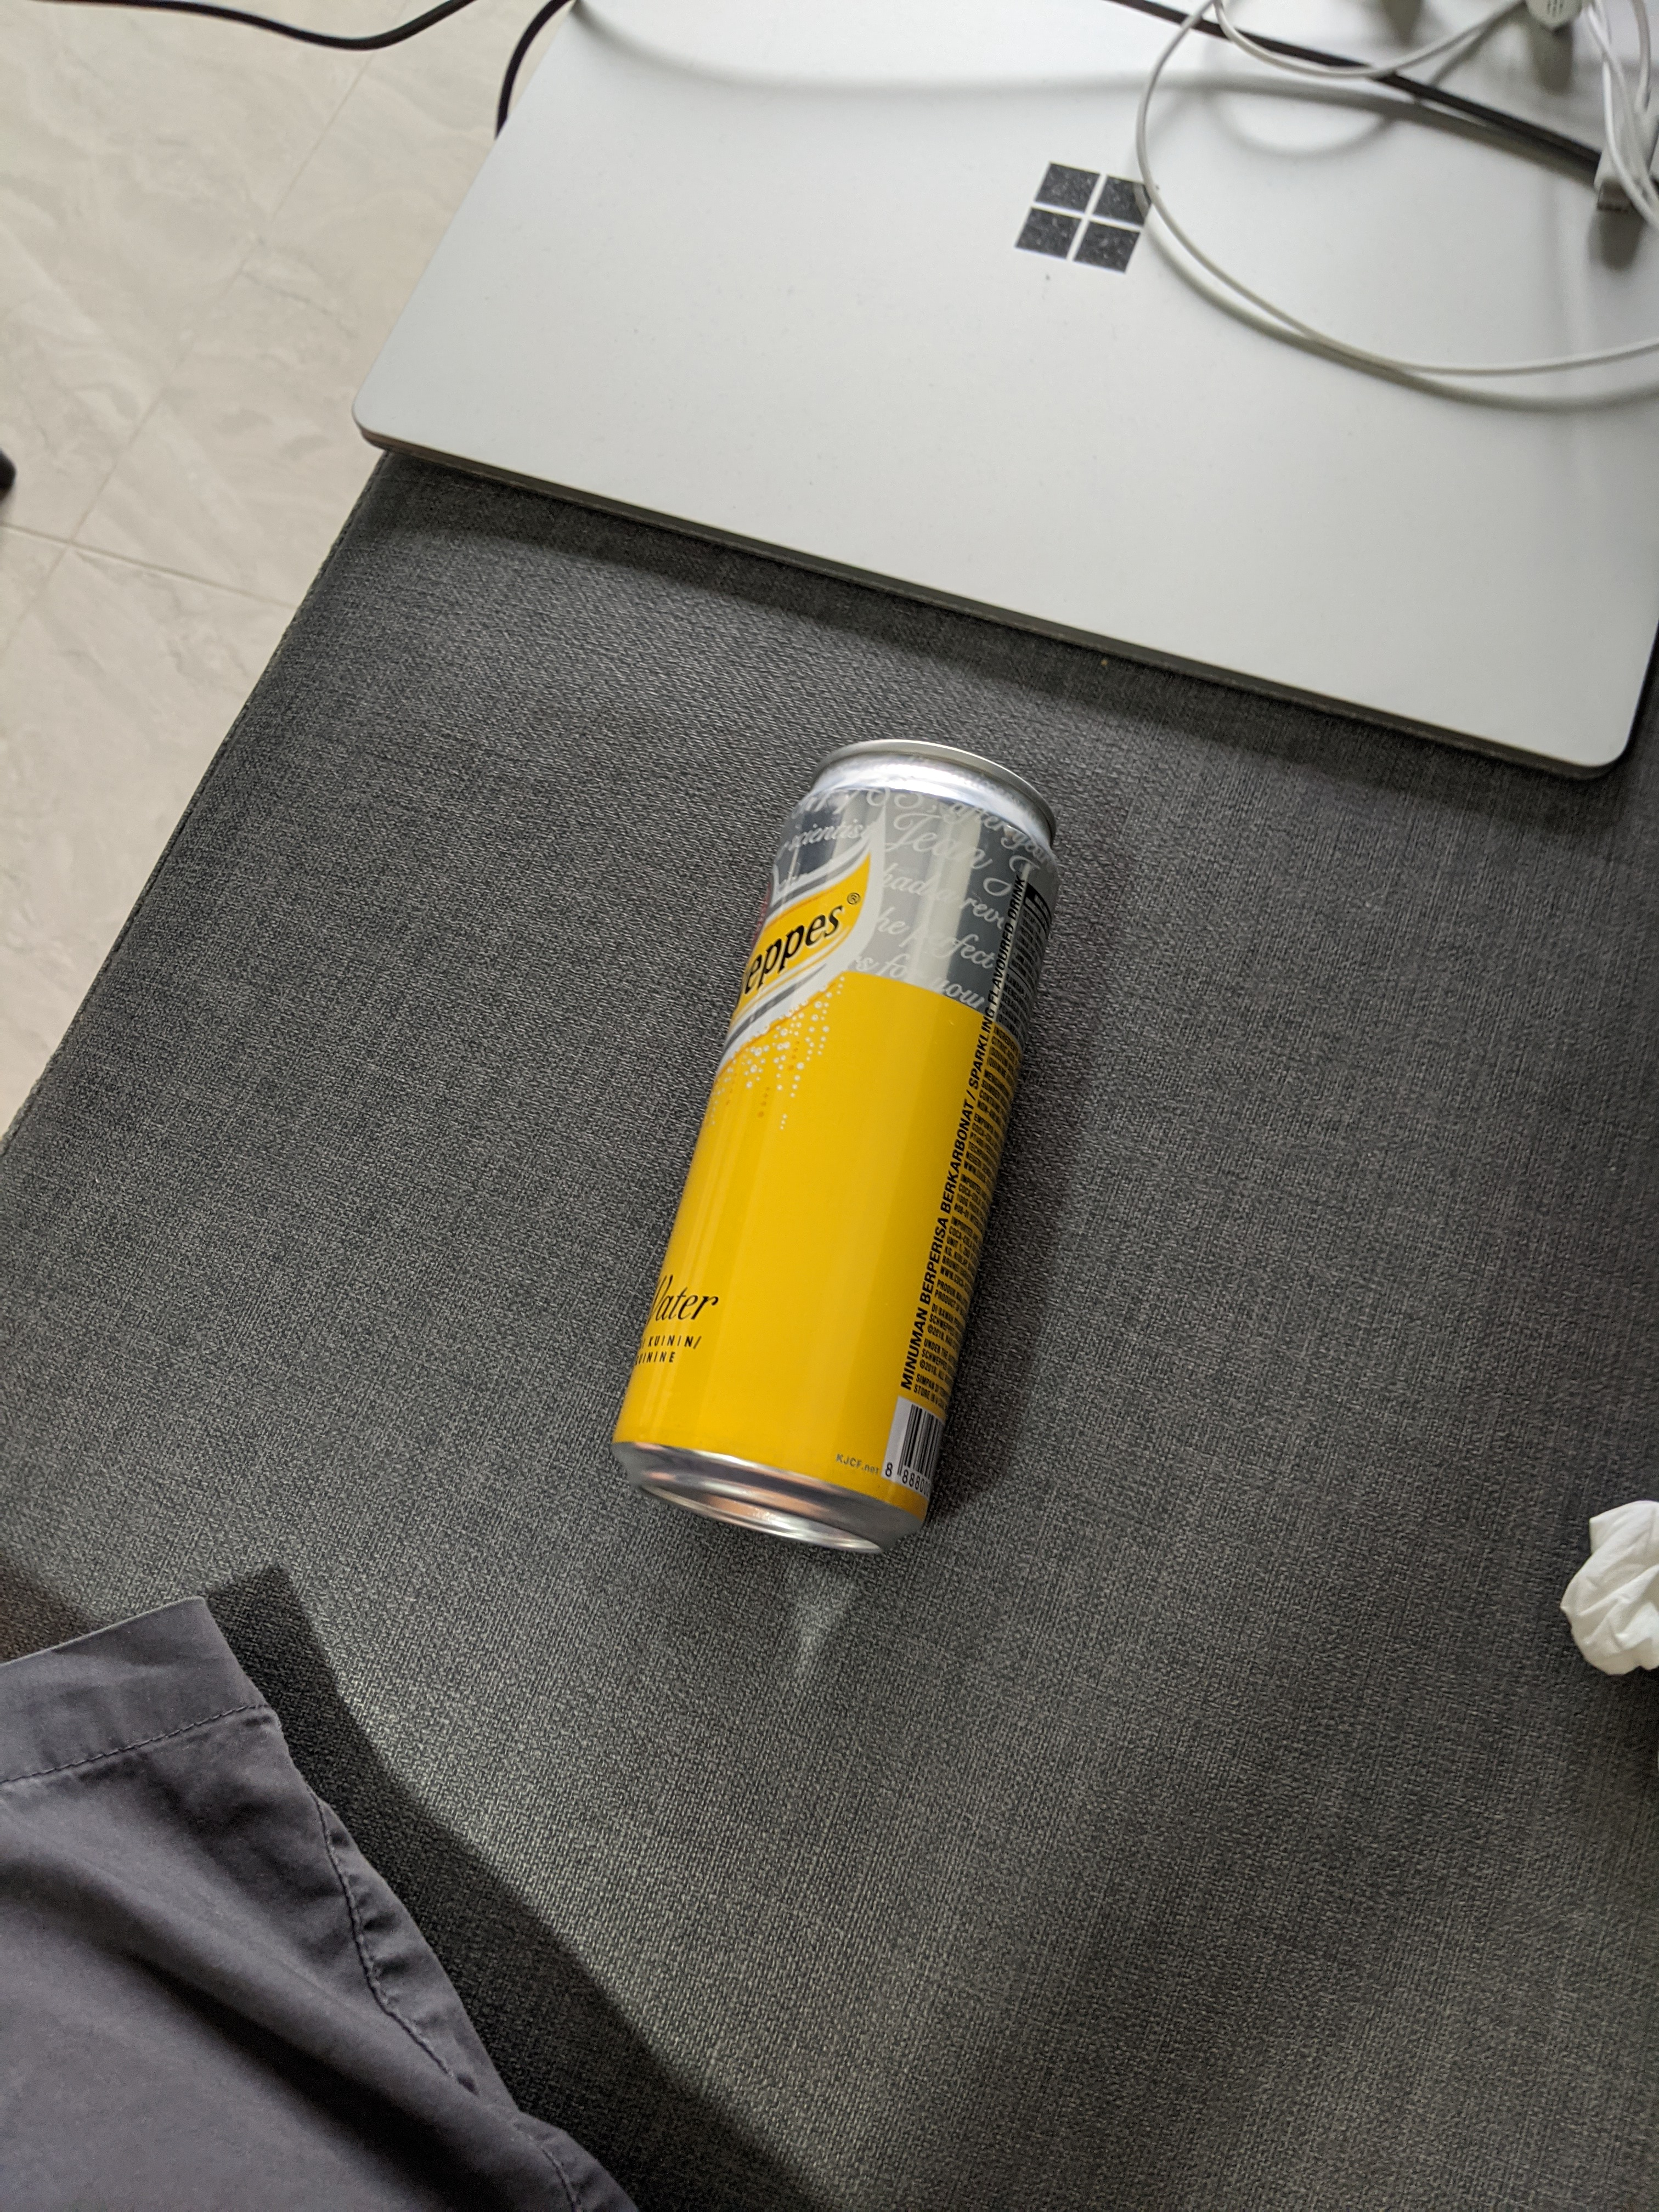schweppes drink can tonic water: (582, 711, 1082, 1597)
